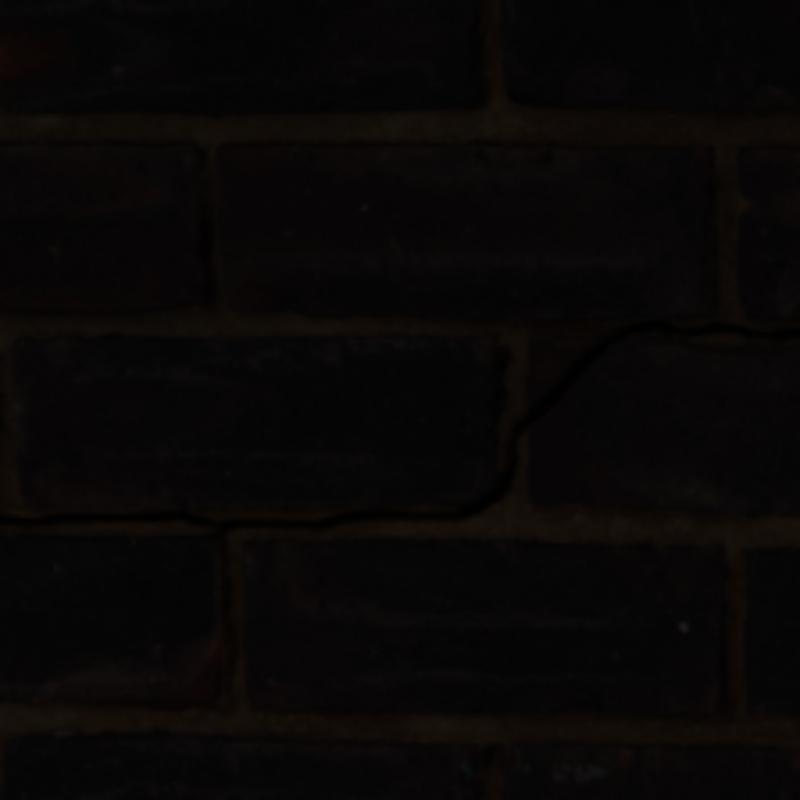pothole: (450, 321, 796, 514), (182, 511, 450, 529), (0, 511, 182, 525)
